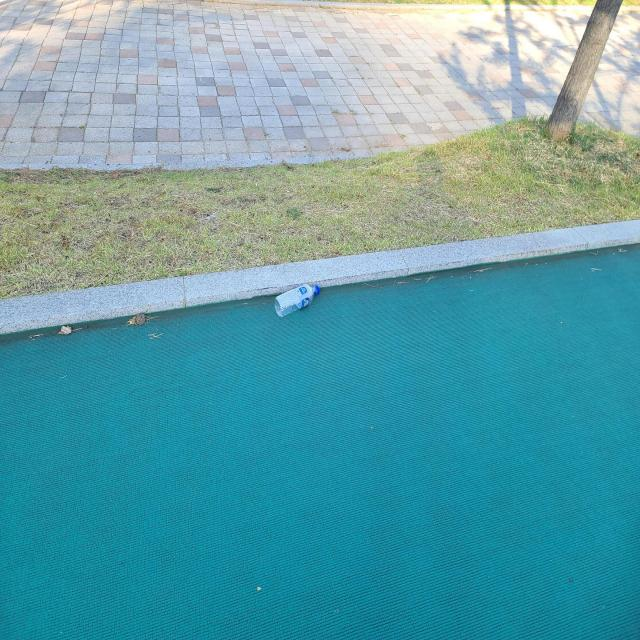plastic: (275, 284, 320, 317)
